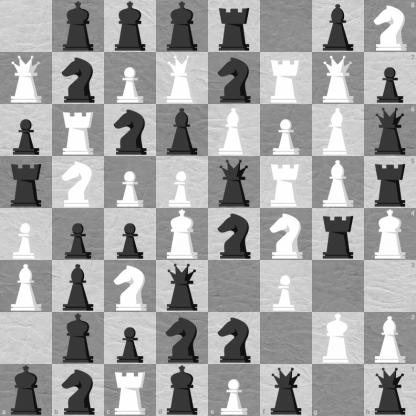B: (364, 312, 416, 364), (1, 261, 52, 312), (209, 105, 260, 156), (313, 105, 364, 156), (313, 157, 364, 208)
K: (364, 209, 416, 260), (157, 209, 208, 260), (313, 313, 364, 364)
N: (364, 0, 416, 52), (53, 157, 104, 208), (105, 261, 156, 312), (261, 209, 312, 260)
P: (209, 364, 260, 416), (1, 209, 52, 260), (105, 53, 156, 104), (105, 157, 156, 208), (157, 157, 208, 208), (261, 105, 312, 156), (261, 261, 312, 312)
Q: (1, 53, 52, 104), (157, 53, 208, 104), (313, 53, 364, 104)
R: (104, 364, 156, 416), (53, 105, 104, 156), (261, 53, 312, 104), (261, 157, 312, 208)
b: (53, 261, 104, 312), (157, 105, 208, 156), (313, 1, 364, 52)
board: (0, 0, 415, 415)
k: (156, 364, 209, 416), (0, 364, 52, 416), (53, 1, 104, 52), (53, 313, 104, 364), (105, 1, 156, 52), (157, 1, 208, 52)
n: (52, 364, 104, 416), (53, 53, 104, 104), (105, 105, 156, 156), (157, 313, 208, 364), (209, 53, 260, 104), (209, 209, 260, 260), (209, 313, 260, 364)
p: (364, 52, 416, 104), (1, 105, 52, 156), (53, 209, 104, 260), (105, 209, 156, 260), (105, 313, 156, 364)
q: (260, 364, 312, 416), (364, 104, 416, 156), (364, 364, 416, 416), (157, 261, 208, 312), (209, 157, 260, 208)
r: (364, 156, 416, 209), (1, 157, 52, 208), (209, 1, 260, 52), (313, 209, 364, 260)
